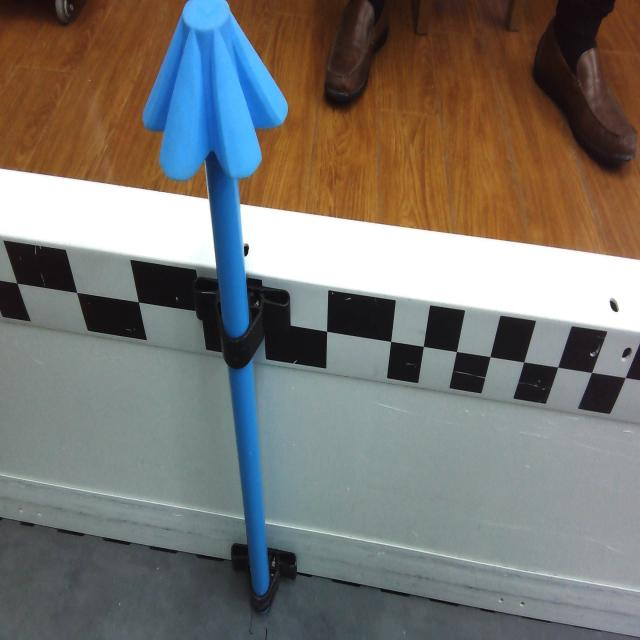zblue-Stake-Head: (143, 0, 287, 179)
